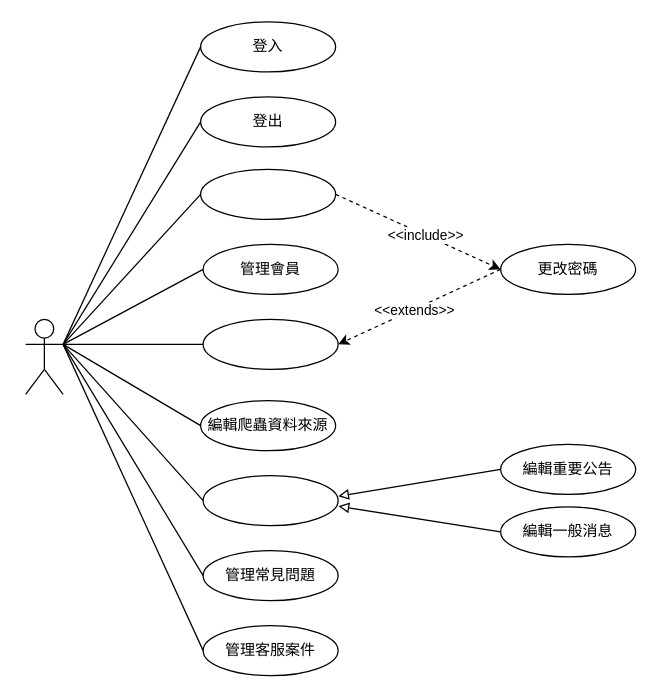
Some shapes in this 658 by 698 pixel diagram are drawn without their labels. The box of each missing label's shape, as (x1, y1, x2, y2) in pixels:
忘記密碼: (199, 168, 336, 219)
管理員: (24, 318, 63, 394)
管理最新消息: (202, 474, 338, 526)
管理管理員資料: (202, 318, 338, 369)
